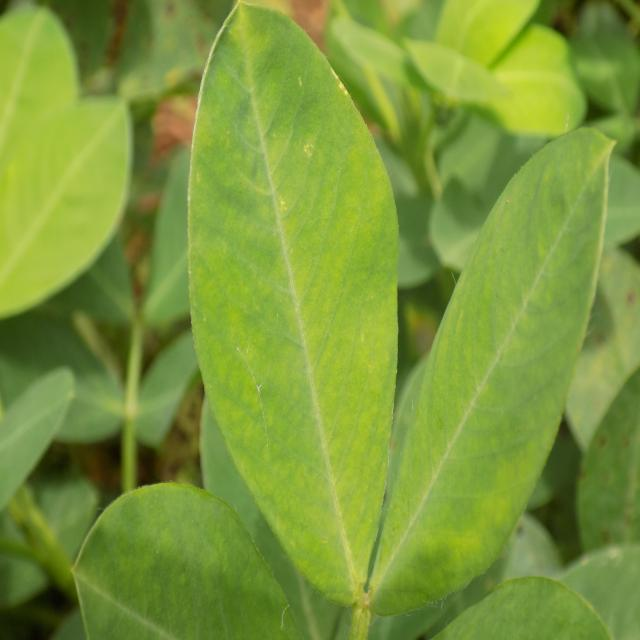Ground nut_healthy: (190, 2, 401, 601), (362, 134, 606, 618)
